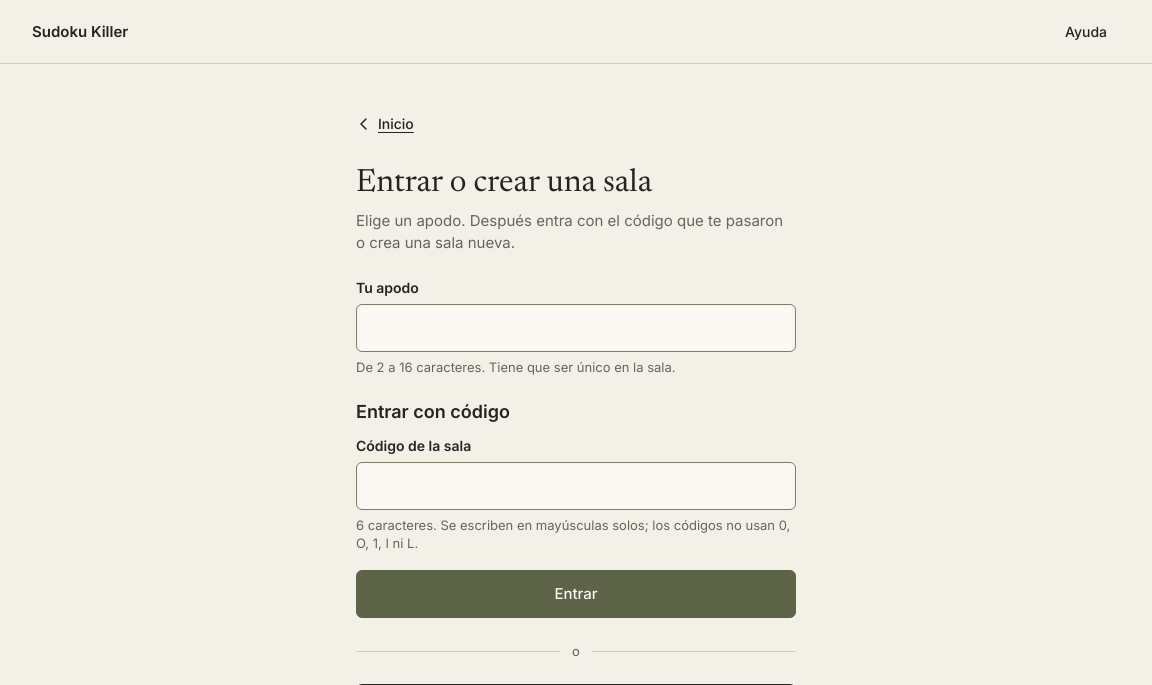
Test: F12g the server is waking up › negative check: with the connection already open there is no notice and the usual timeout applies
Type "Inés" into the field labelled "Tu apodo" at {"x": 576, "y": 328}, box [356,304,796,352]
(page scrolled)
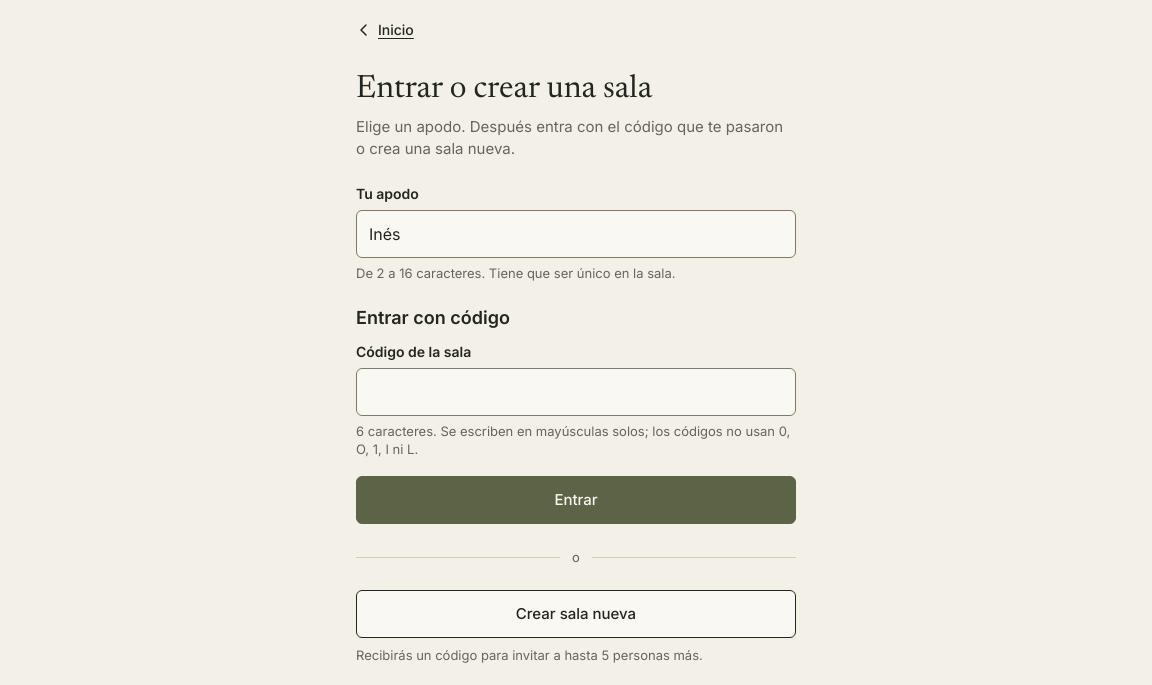
Click the button "Crear sala nueva" at {"x": 576, "y": 614}, box [356,590,796,638]
Wait 15000 ms
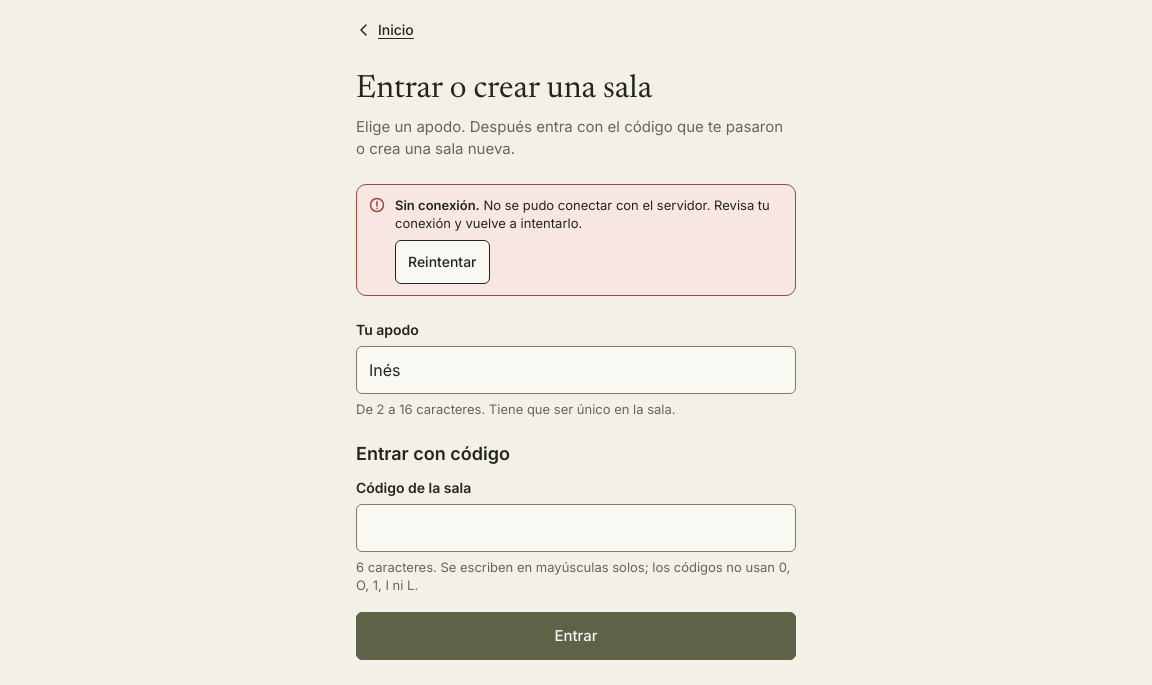
Check: the button "Reintentar" is shown, box [395,240,490,284]
